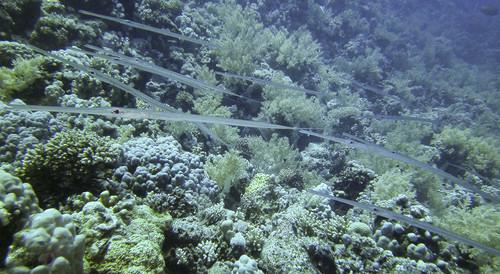Fistularia commersonii: (5, 80, 311, 162), (292, 184, 500, 272), (298, 120, 478, 200), (73, 34, 270, 102), (315, 60, 455, 137)
